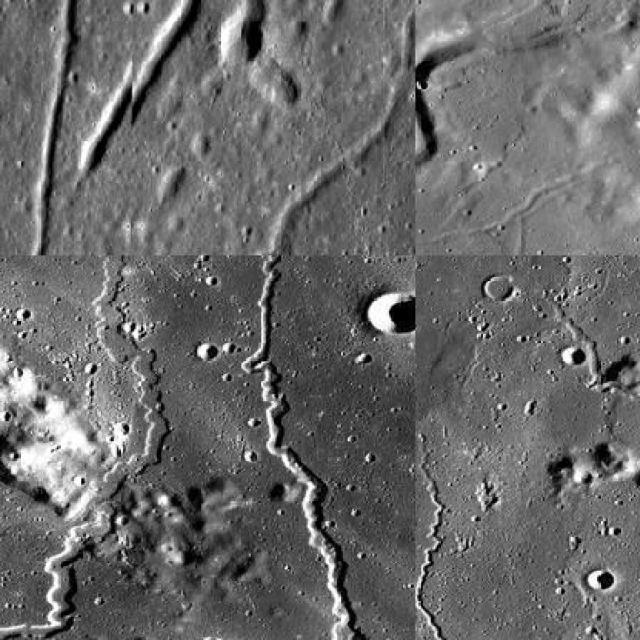rille: (31, 256, 371, 638), (143, 0, 414, 254), (0, 255, 172, 638), (77, 0, 291, 180), (543, 292, 639, 638), (416, 437, 544, 638), (0, 0, 97, 254), (416, 29, 486, 254)
